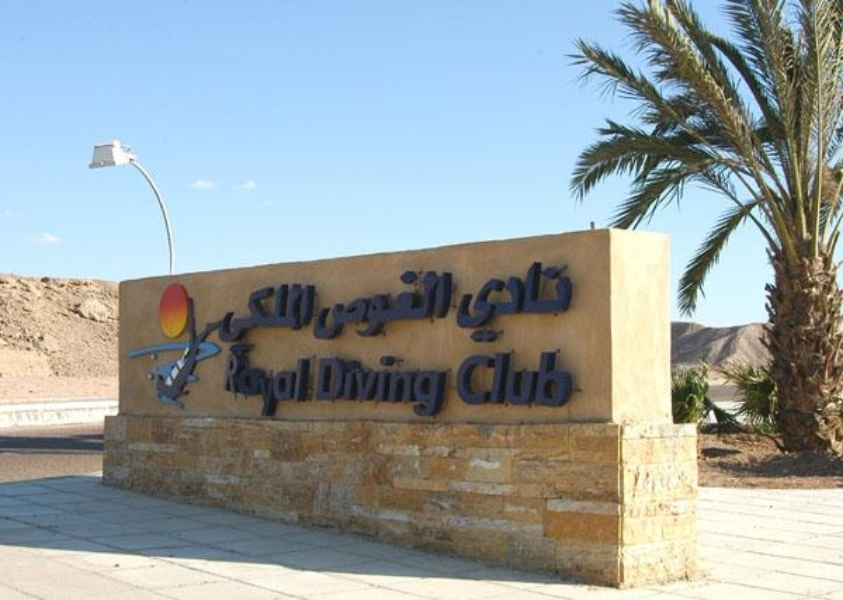text: (561, 255, 577, 345), (465, 255, 480, 345), (481, 255, 496, 345), (497, 255, 512, 345), (513, 255, 528, 345), (529, 255, 544, 345), (545, 255, 560, 345), (337, 267, 352, 342), (353, 267, 368, 342), (369, 267, 384, 342), (385, 267, 400, 342), (401, 267, 416, 342), (417, 267, 432, 342), (433, 267, 448, 342), (225, 283, 240, 356), (241, 283, 256, 356), (257, 283, 272, 356), (273, 283, 288, 356), (289, 283, 304, 356), (225, 353, 240, 425), (241, 353, 256, 425), (257, 353, 272, 425), (273, 353, 288, 425), (289, 353, 304, 425), (305, 283, 319, 356), (321, 355, 336, 421), (337, 355, 352, 421), (353, 355, 368, 421), (369, 355, 384, 421), (385, 355, 400, 421), (401, 355, 416, 421), (417, 355, 432, 421), (433, 355, 448, 421), (465, 346, 480, 412), (481, 346, 496, 412), (497, 346, 512, 412), (513, 346, 528, 412), (529, 346, 544, 412), (545, 346, 560, 412), (561, 346, 576, 412), (305, 353, 315, 425), (329, 267, 336, 342), (457, 346, 464, 412), (449, 267, 454, 342), (460, 255, 464, 345), (220, 283, 224, 356), (317, 355, 320, 421), (449, 355, 452, 421), (577, 346, 579, 412)
